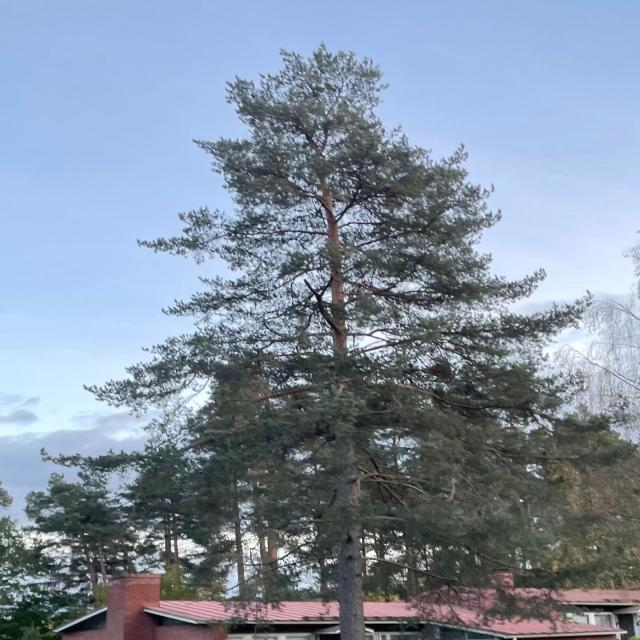pine: (77, 24, 603, 640)
